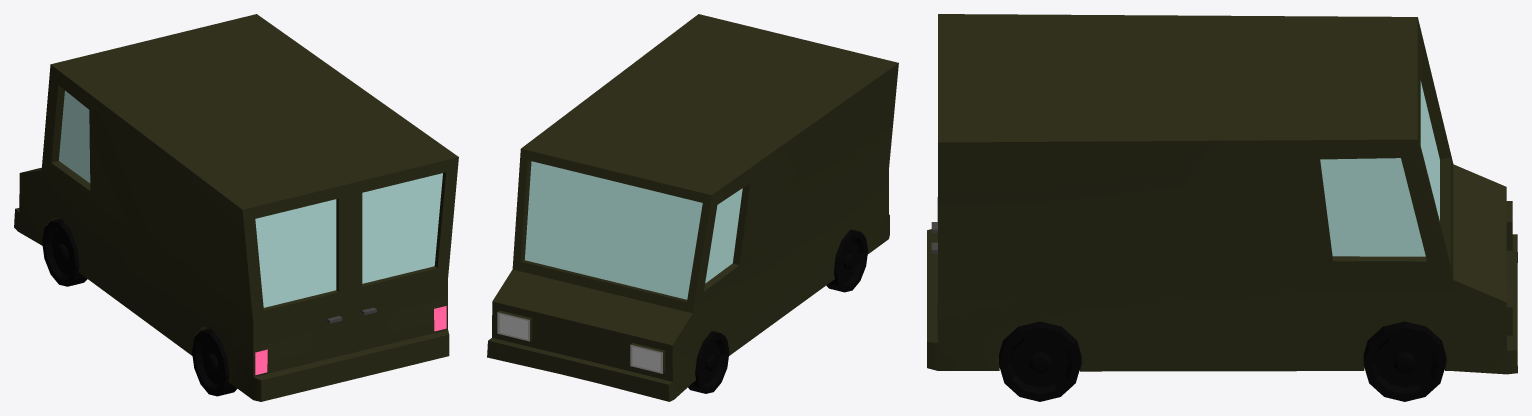
The model's file is car_model.fbx.
The picture shows the model from 3 angles, left to right: view 1: azimuth 30°, elevation 25°; view 2: azimuth 150°, elevation 25°; view 3: azimuth 270°, elevation 25°; orthographic projection. The views are drawn at different scales.
Parts seen in each view (by area): view 1: Cube, Circle; view 2: Cube, Circle; view 3: Cube, Circle.
Part boxes in pixels (bbox=[...]): Cube: bbox=[14, 14, 458, 401]; Circle: bbox=[42, 219, 237, 396]; Cube: bbox=[487, 14, 898, 401]; Circle: bbox=[688, 229, 868, 393]; Cube: bbox=[927, 14, 1517, 374]; Circle: bbox=[999, 321, 1445, 401].
Bounding box in the file's own units: 381 × 365 × 740.
